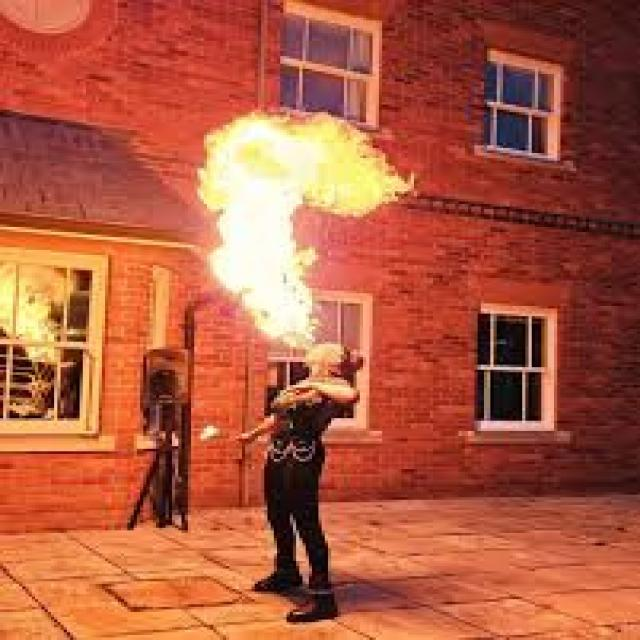fire: (195, 109, 417, 218), (209, 217, 320, 352), (0, 259, 71, 361)
